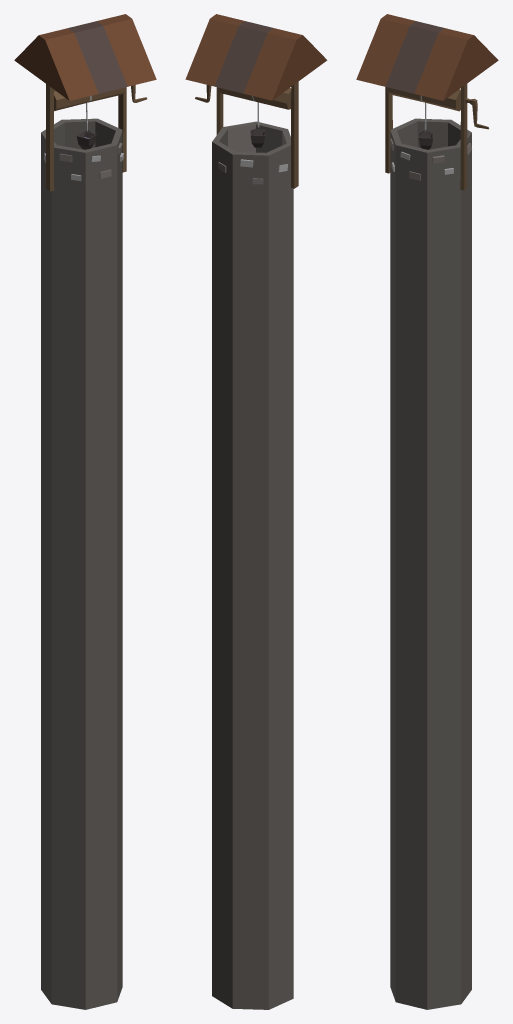
Rendered from Well.glb.
3 views of the same model, side by side, from view 1: azimuth 30°, elevation 25°; view 2: azimuth 150°, elevation 25°; view 3: azimuth 330°, elevation 25° (orthographic).
Visible parts, largest first — view 1: Well2; view 2: Well2; view 3: Well2.
Part boxes in pixels (x1,y1,x2,y2): Well2: [14, 14, 156, 1009]; Well2: [185, 14, 327, 1009]; Well2: [356, 14, 498, 1009].
Size of the model in its own units: 3.93 by 34.58 by 3.59.
5 materials, 5 textured.
